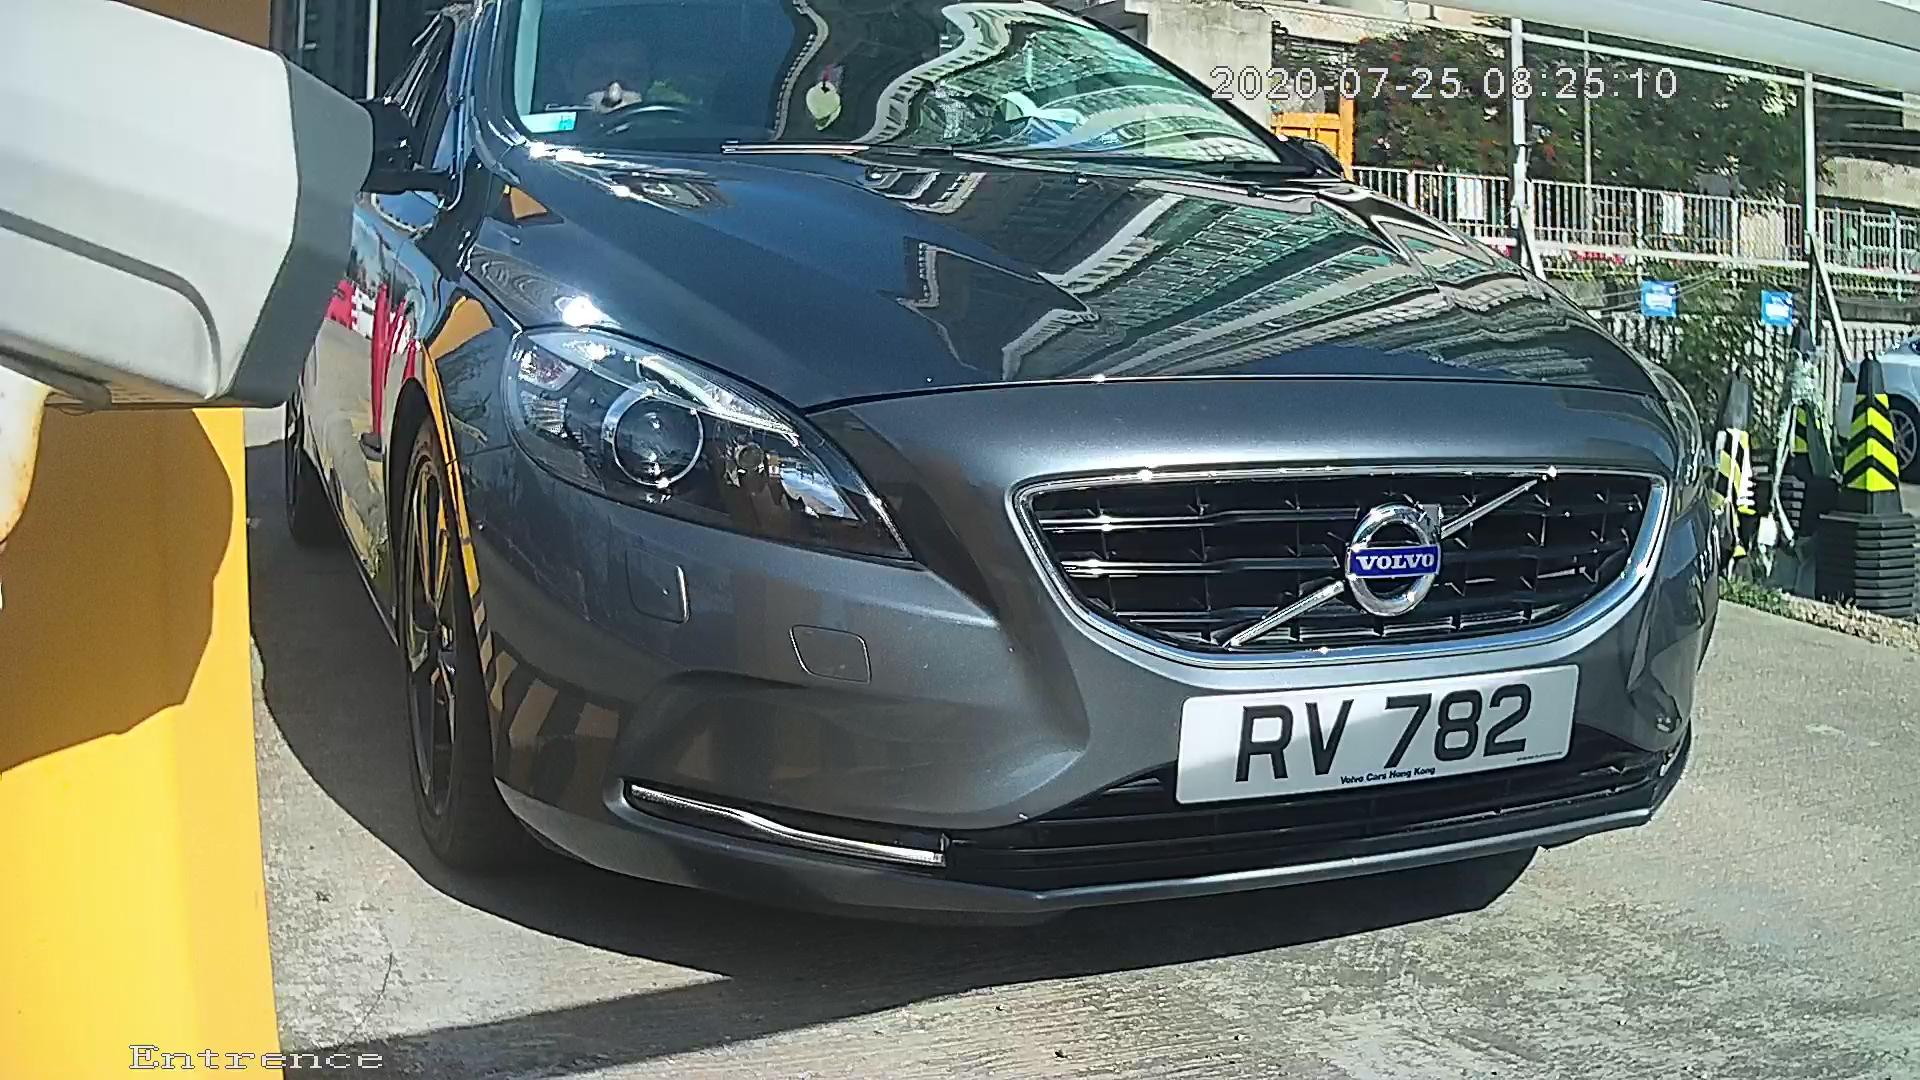License Plate: (1158, 656, 1586, 815)
